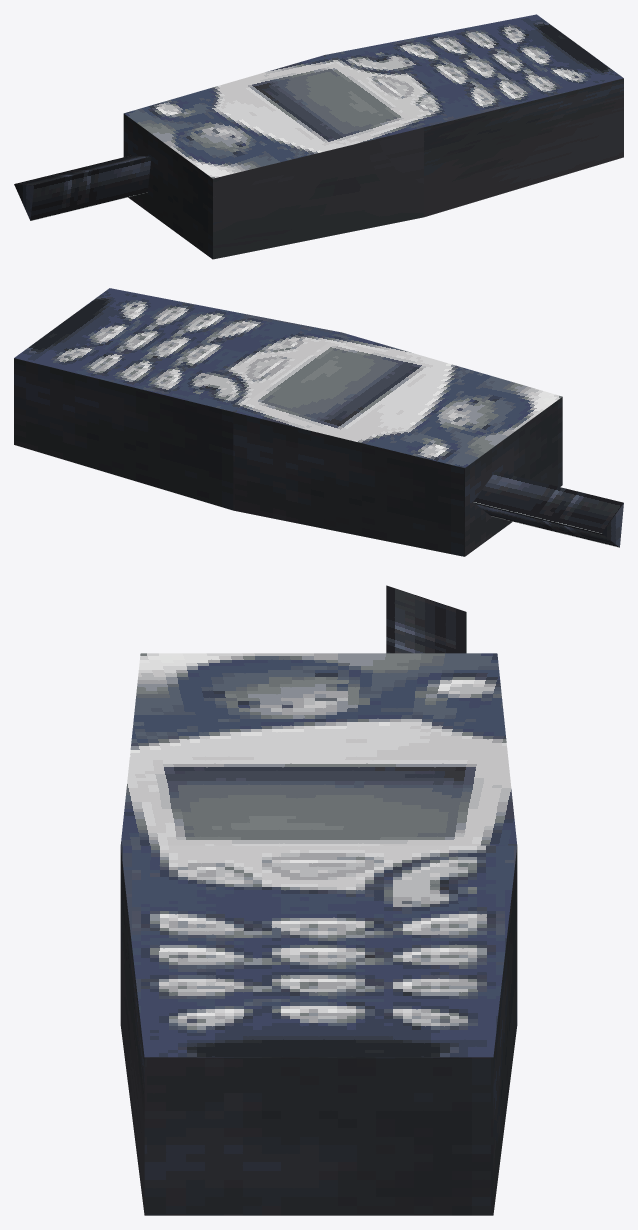
Rendered from phone.glb.
3 renders of one model, top to bottom at view 1: azimuth 30°, elevation 25°; view 2: azimuth 150°, elevation 25°; view 3: azimuth 270°, elevation 25°, orthographic. The views are drawn at different scales.
Parts seen in each view (by area): view 1: Cube; view 2: Cube; view 3: Cube.
Part boxes in pixels (x1,y1,x2,y2): Cube: [14, 14, 623, 259]; Cube: [14, 288, 623, 556]; Cube: [120, 585, 517, 1215].
Size of the model in its own units: 12.33 by 2 by 4.
1 material, 1 textured.
